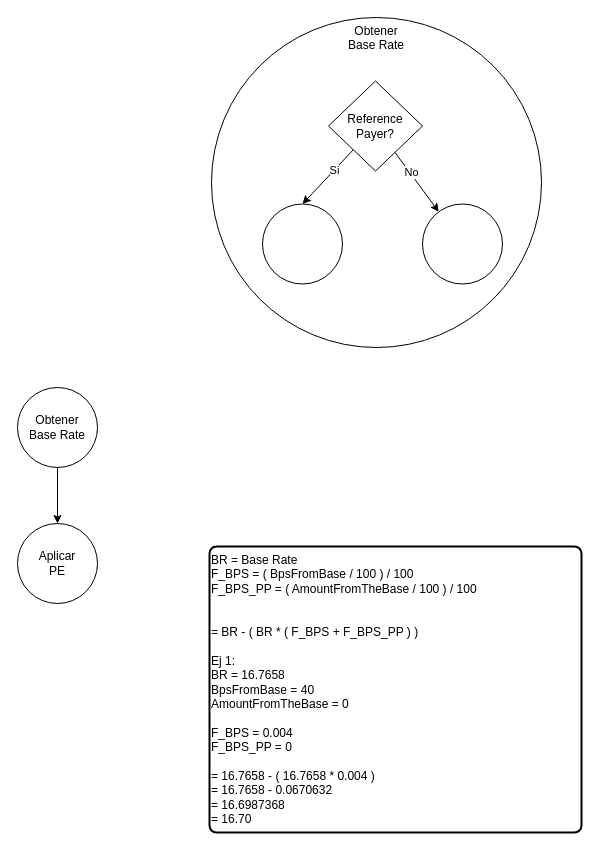
Image size: 600x851. Some labels were removed from this diagram. The box of each missing label's shape, as (x1, y1, x2, y2) in pixels:
Get FxBase From RP: (262, 203, 342, 284)
Get Max FxBase: (422, 203, 502, 284)
